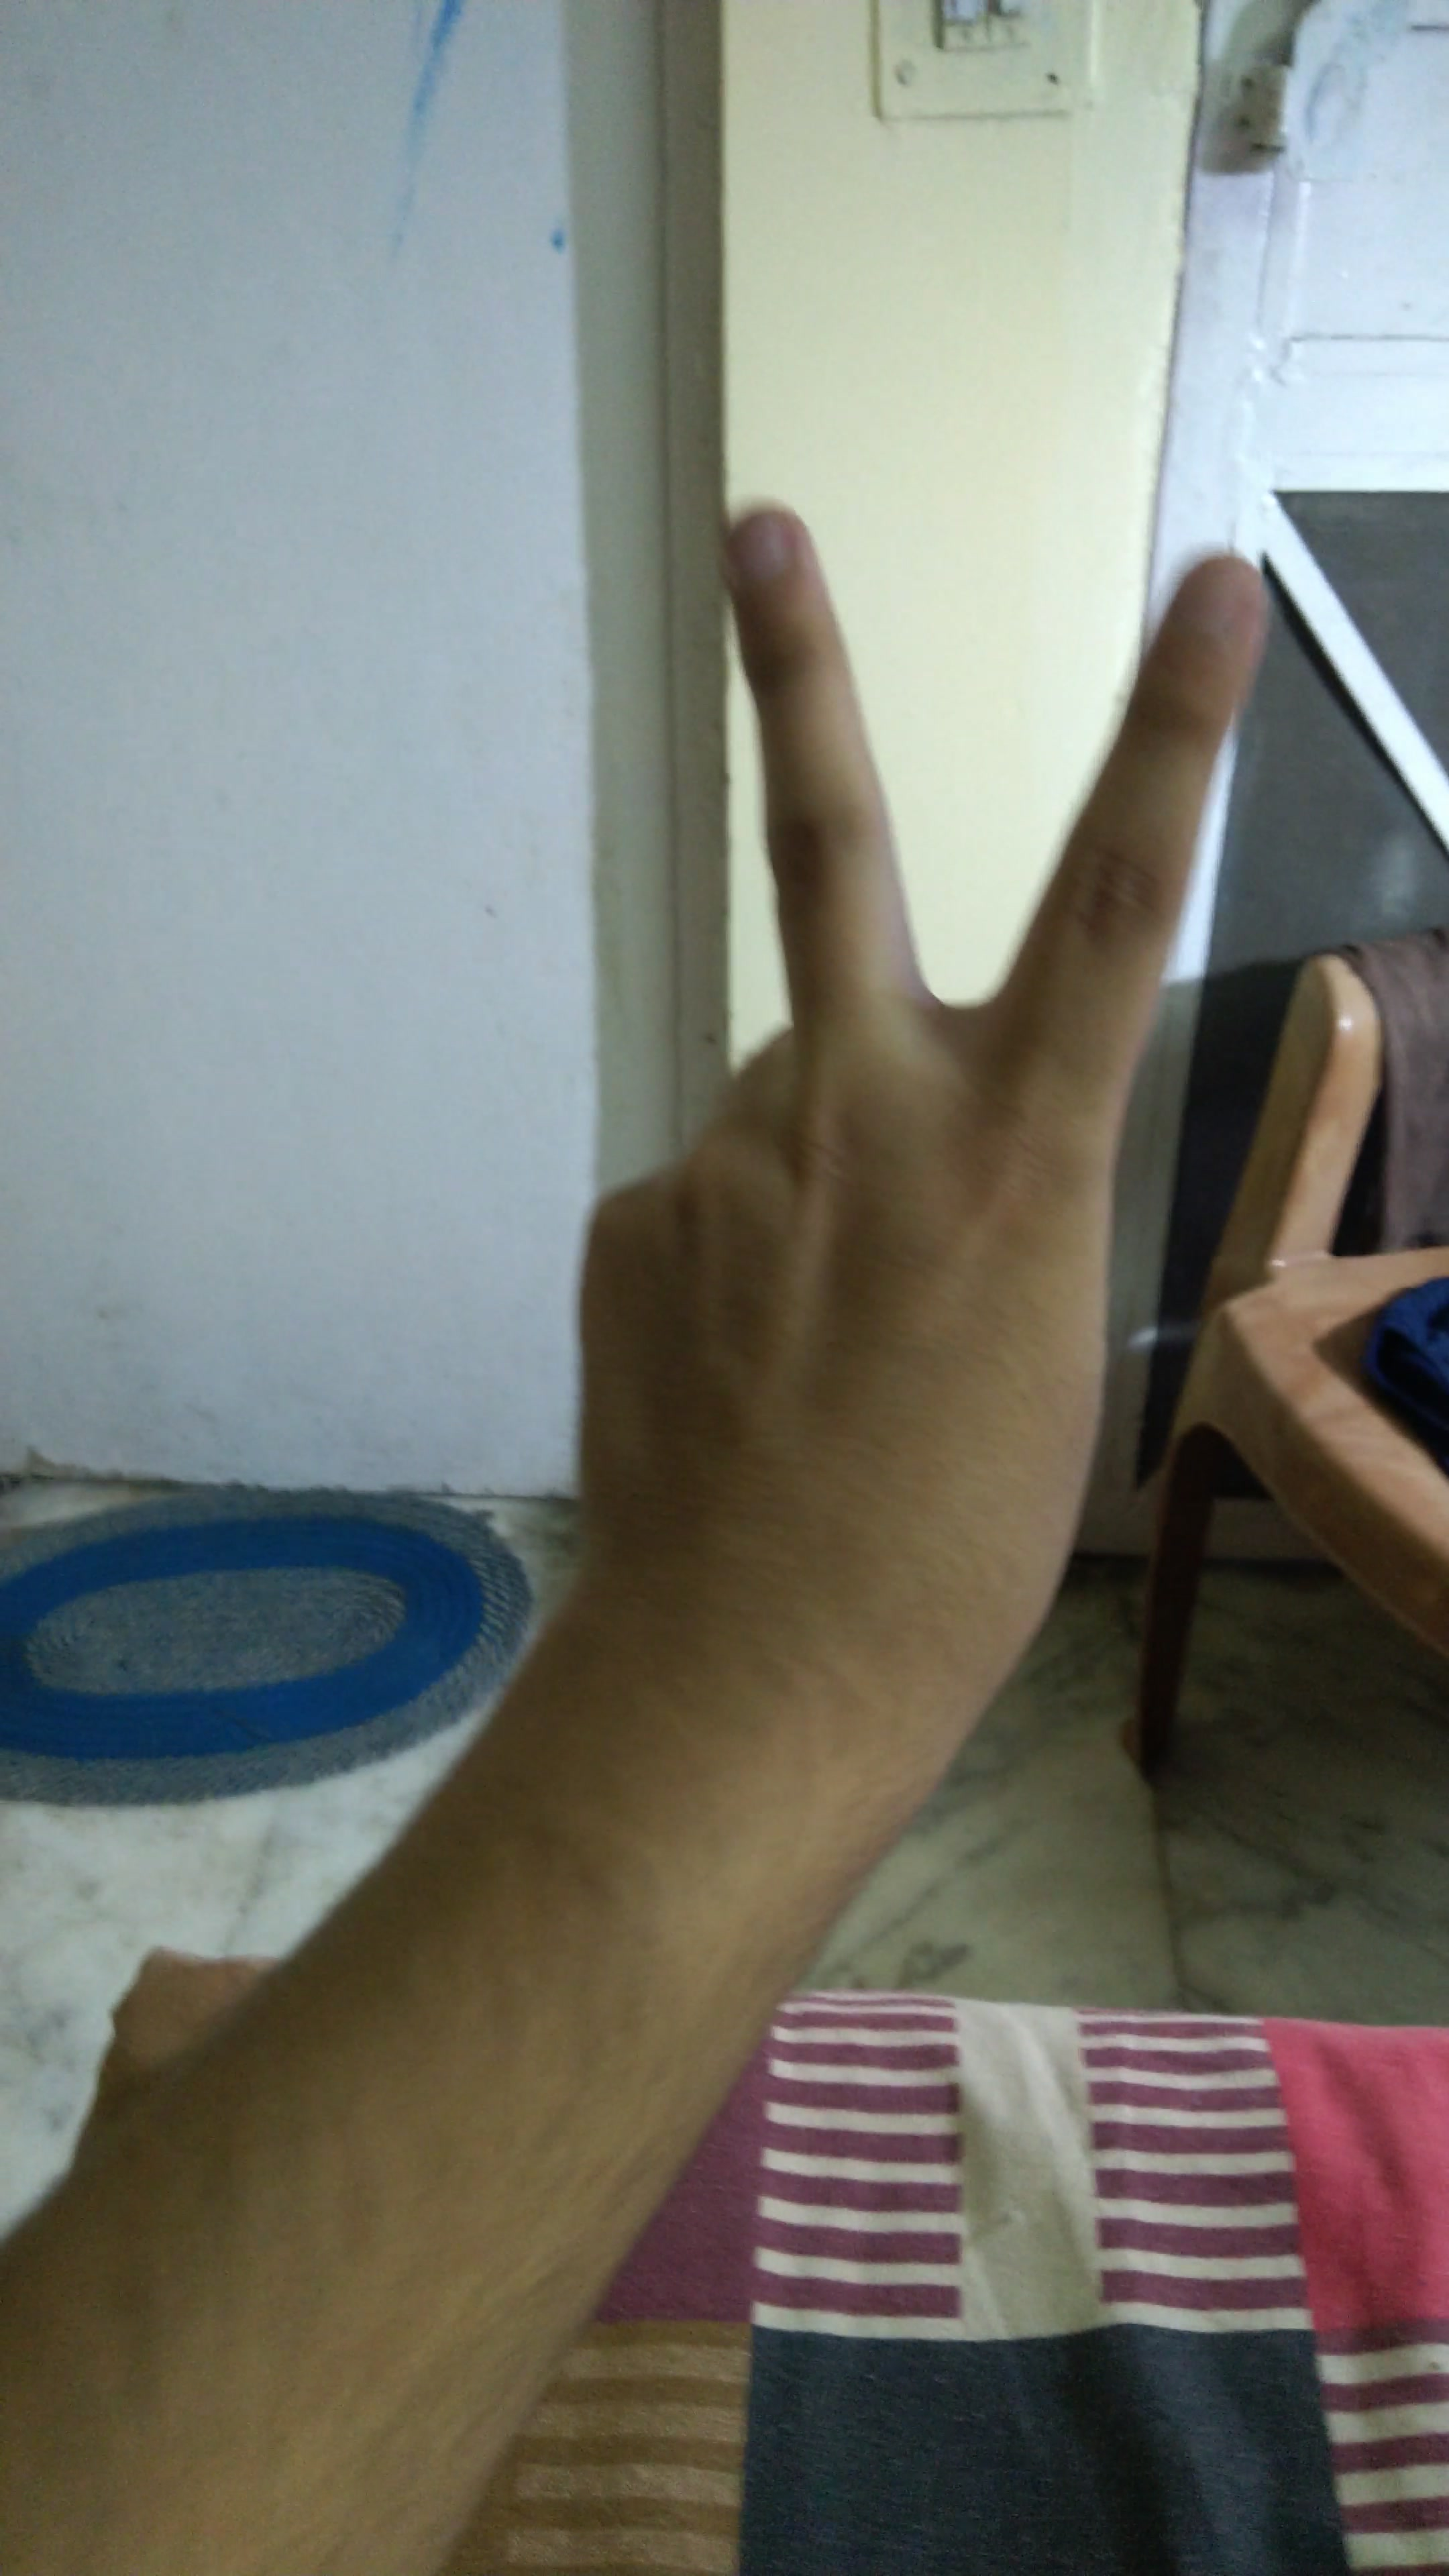hand: (446, 451, 1307, 1819)
